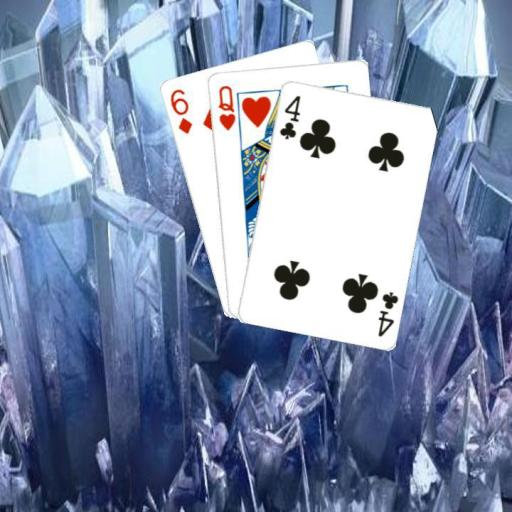4C: (374, 288, 400, 338), (276, 92, 301, 140)
6D: (167, 85, 194, 135)
QH: (215, 82, 237, 132)
